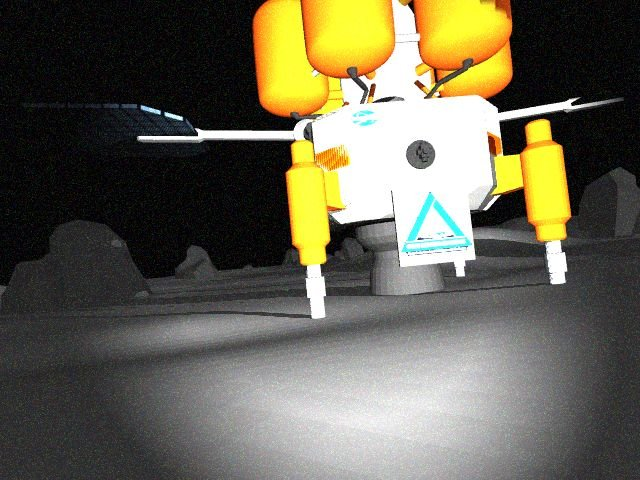basemarker: (396, 191, 474, 256)
